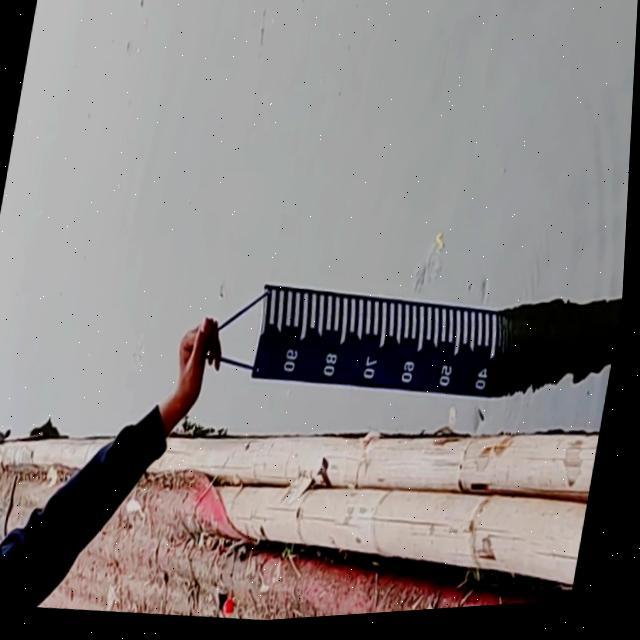water-meter: (231, 254, 539, 440)
